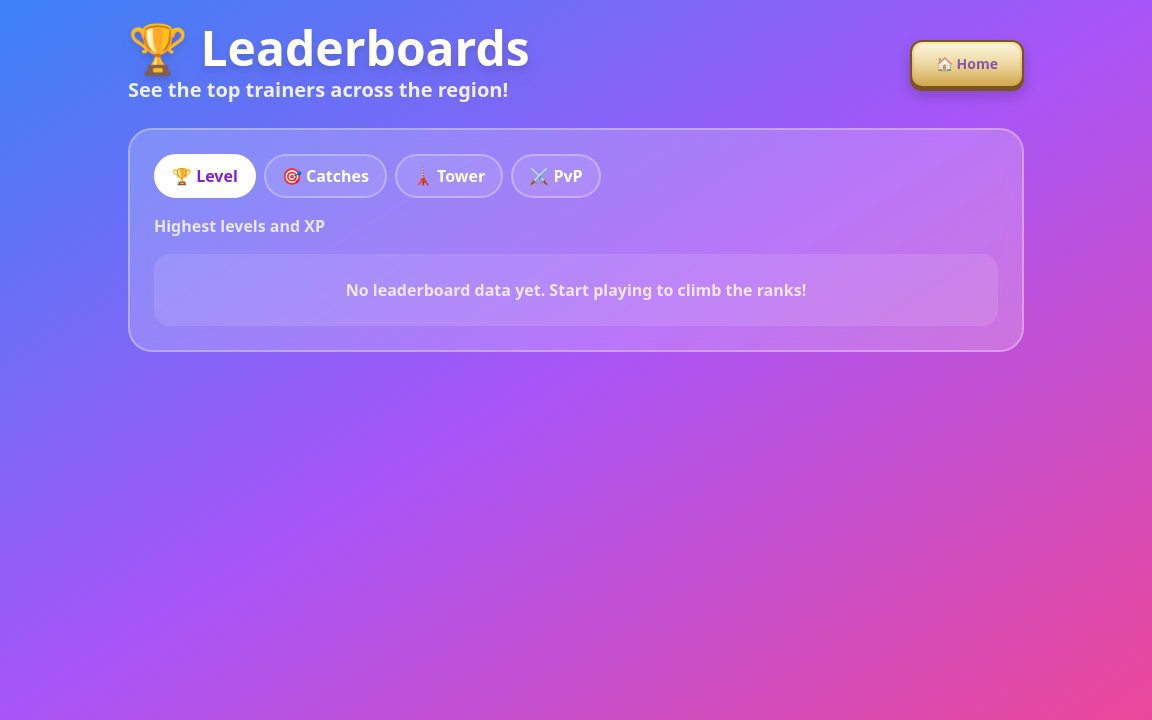
Scenario: Leaderboards Page › loads PvP rankings when the PvP tab is selected
The image size is (1152, 720).
Click the button "⚔️ PvP": (556, 176) x1=511 y1=154 x2=601 y2=198
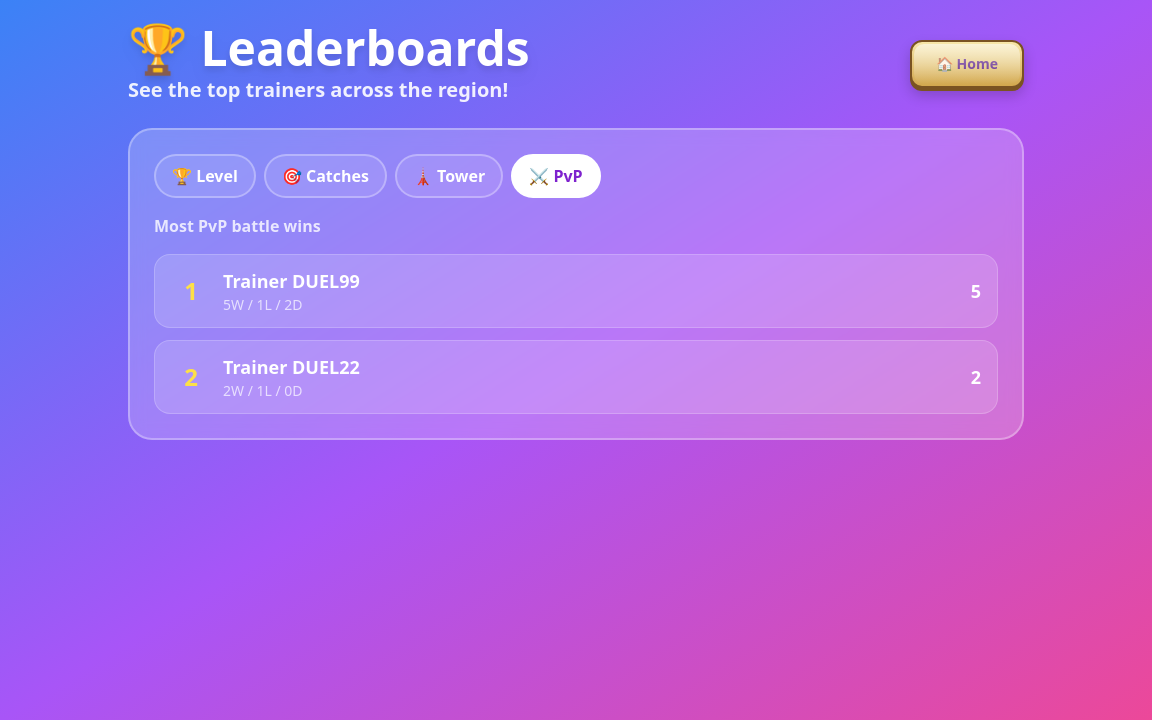
Expected: the text "5W / 1L / 2D" is shown, x1=223 y1=295 x2=303 y2=314
Expected: the text "2W / 1L / 0D" is shown, x1=223 y1=381 x2=303 y2=400
Expected: the text "Trainer DUEL99" is shown, x1=223 y1=267 x2=360 y2=295
